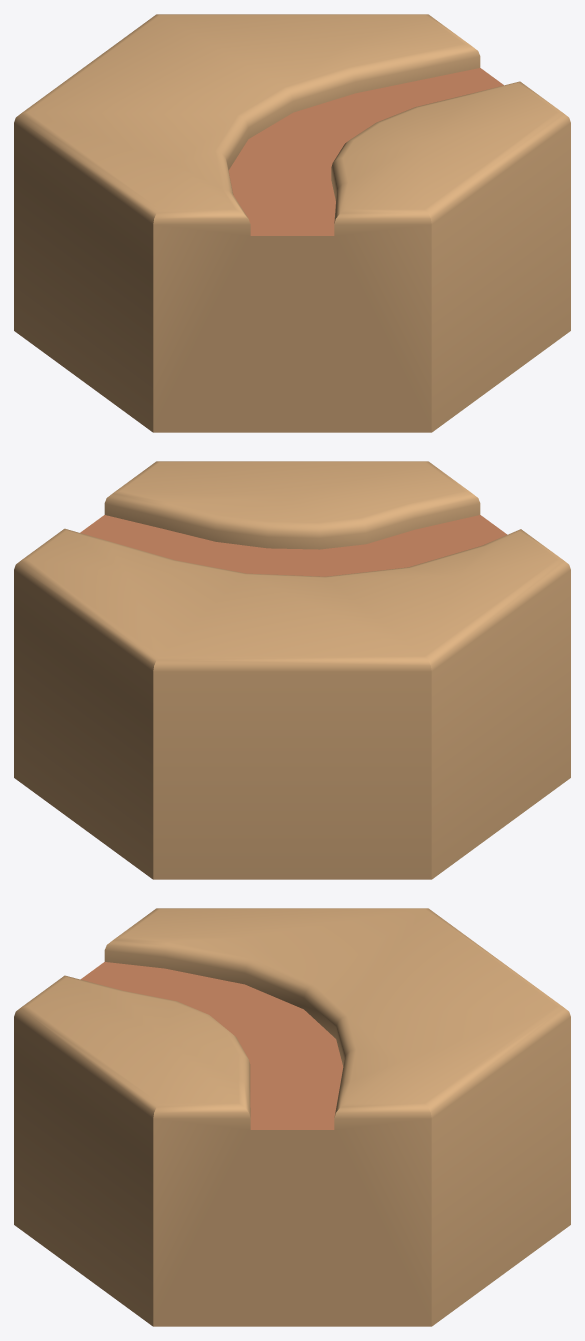
Rendered from hex_sand_roadD.glb.
3 views of the same model, one above another, from view 1: azimuth 30°, elevation 25°; view 2: azimuth 150°, elevation 25°; view 3: azimuth 270°, elevation 25° (orthographic).
Visible parts, largest first — view 1: hex_sand_roadD; view 2: hex_sand_roadD; view 3: hex_sand_roadD.
Boxes of the visible parts, x1=… form: hex_sand_roadD: x1=14, y1=14, x2=570, y2=432; hex_sand_roadD: x1=14, y1=461, x2=570, y2=879; hex_sand_roadD: x1=14, y1=908, x2=570, y2=1326.
Bounding box in the file's own units: 2 × 1 × 2.31.
